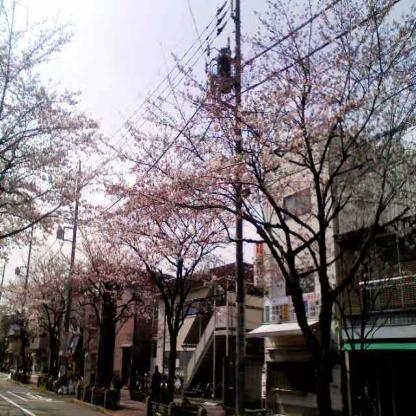Someiyoshino: (4, 4, 413, 347), (3, 5, 120, 268)
